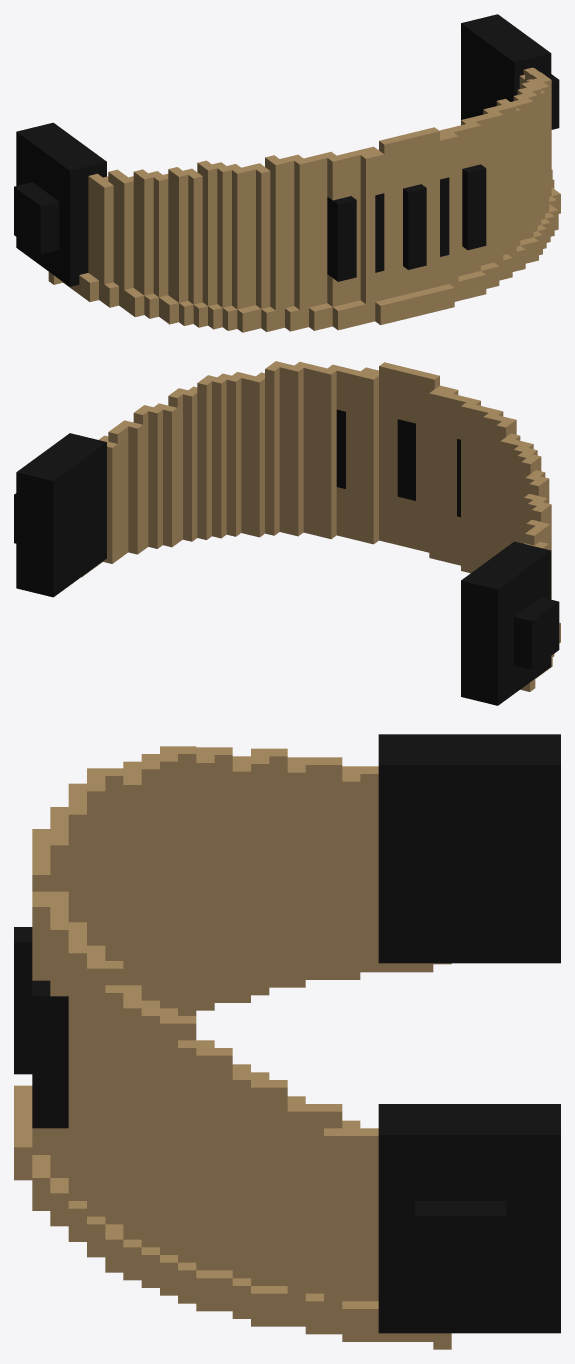
The model's file is ballistic_mandible_guard.glb.
The picture shows the model from 3 angles, top to bottom: view 1: azimuth 30°, elevation 25°; view 2: azimuth 150°, elevation 25°; view 3: azimuth 270°, elevation 25°; orthographic projection. The views are drawn at different scales.
Parts seen in each view (by area): view 1: ballistic_mandible_guard:compound; view 2: ballistic_mandible_guard:compound; view 3: ballistic_mandible_guard:compound.
Part boxes in pixels (x1,y1,x2,y2): ballistic_mandible_guard:compound: (14, 14, 560, 332); ballistic_mandible_guard:compound: (14, 361, 560, 705); ballistic_mandible_guard:compound: (14, 734, 560, 1349).
Bounding box in the file's own units: 0.224 × 0.072 × 0.12.
